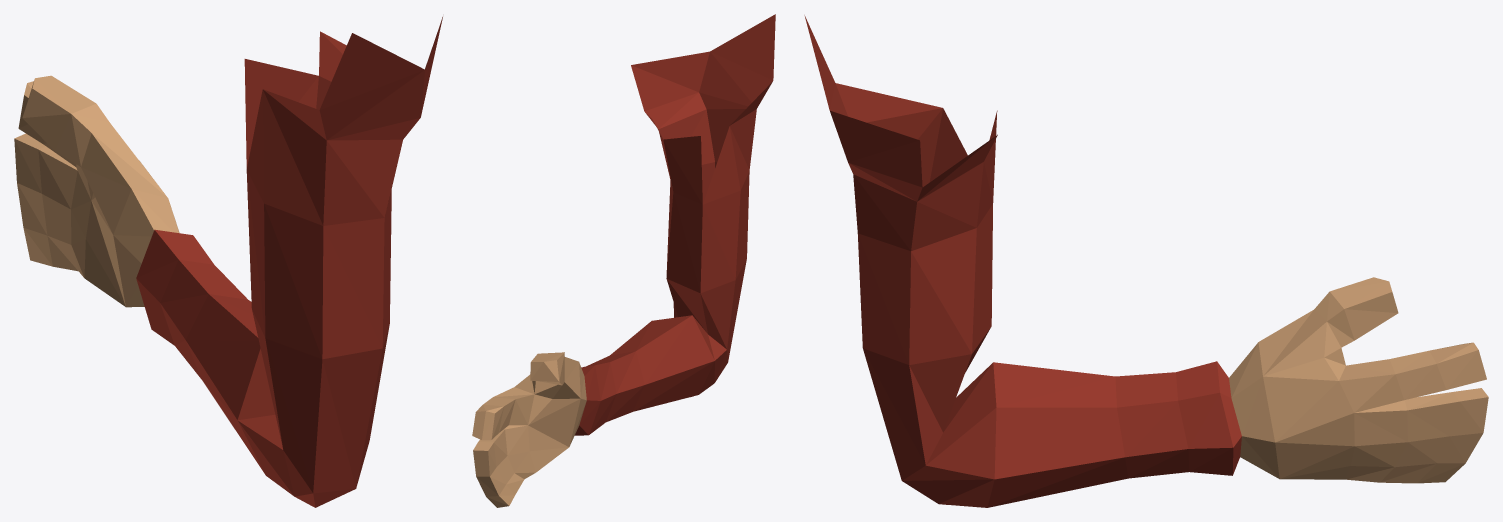
The model's file is Son_01_ArmR_96_01_B.obj.
3 views of the same model, side by side, from view 1: azimuth 30°, elevation 25°; view 2: azimuth 150°, elevation 25°; view 3: azimuth 270°, elevation 25° (orthographic). The views are drawn at different scales.
Parts seen in each view (by area): view 1: Son_01_ArmR_96_01_B; view 2: Son_01_ArmR_96_01_B; view 3: Son_01_ArmR_96_01_B.
Part boxes in pixels (x1,y1,x2,y2): Son_01_ArmR_96_01_B: (14,17,442,507); Son_01_ArmR_96_01_B: (472,14,775,507); Son_01_ArmR_96_01_B: (804,15,1488,507).
Bounding box in the file's own units: 0.1573 × 0.469 × 0.6171.
Materials: 1 (1 with a texture image).
